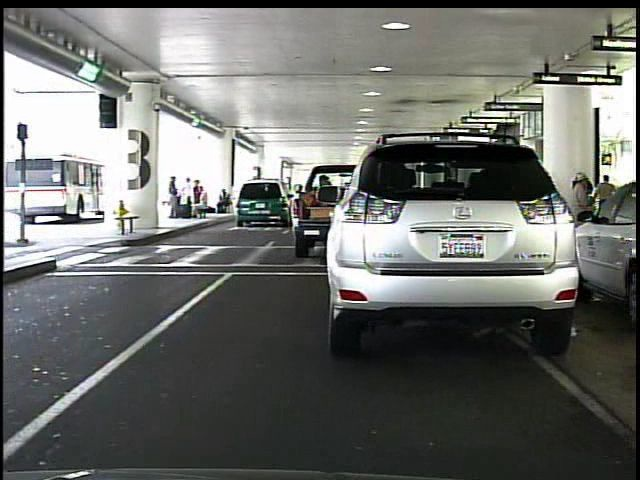person: (567, 169, 594, 254), (595, 173, 618, 231), (163, 170, 183, 222)
